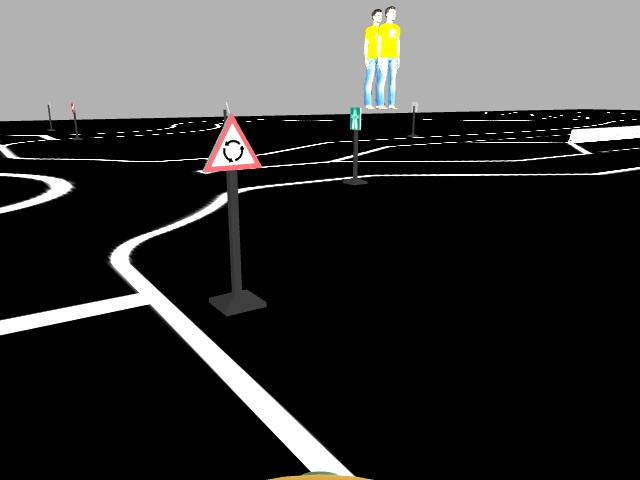HighwayEntrance: (346, 105, 362, 130)
Roundabout: (200, 114, 264, 173)
